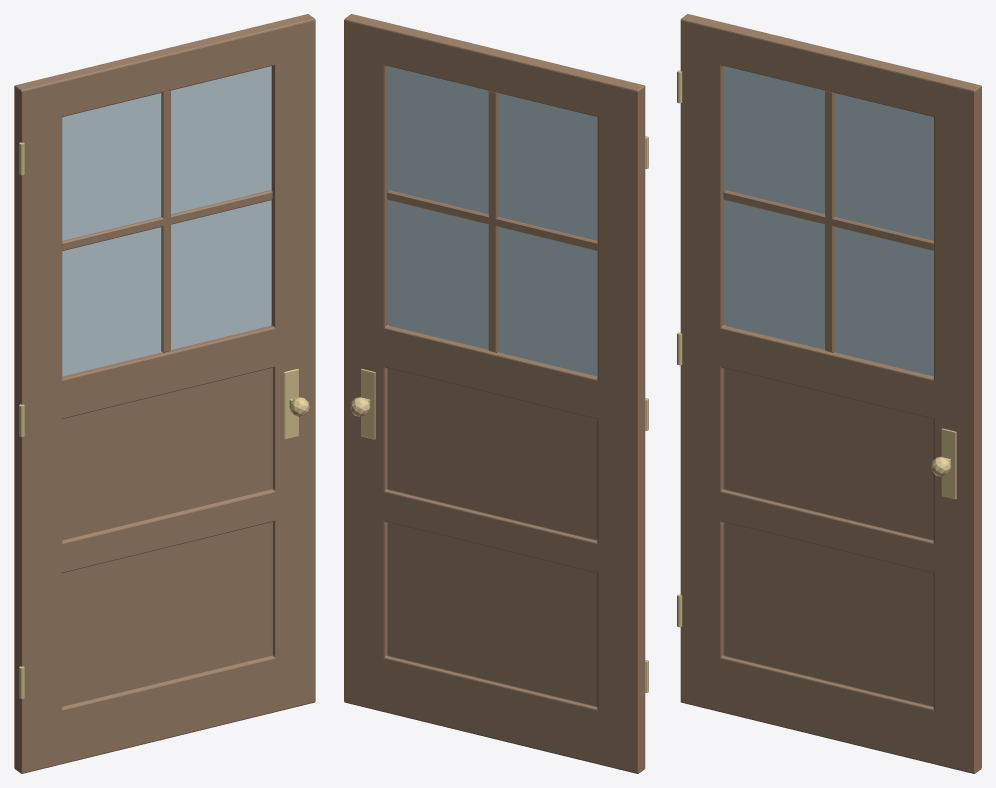
The model's file is door_leaf_back.glb.
3 renders of one model, left to right at view 1: azimuth 30°, elevation 25°; view 2: azimuth 150°, elevation 25°; view 3: azimuth 330°, elevation 25°, orthographic.
Visible parts, largest first — view 1: door_leaf_back_door, door_leaf_back_glass, door_leaf_back_brass; view 2: door_leaf_back_door, door_leaf_back_glass, door_leaf_back_brass; view 3: door_leaf_back_door, door_leaf_back_glass, door_leaf_back_brass.
Boxes of the visible parts, x1,y1,x2,y2 form: door_leaf_back_door: (14, 14, 315, 773); door_leaf_back_glass: (62, 66, 271, 376); door_leaf_back_brass: (19, 142, 309, 698); door_leaf_back_door: (344, 14, 645, 773); door_leaf_back_glass: (388, 66, 597, 376); door_leaf_back_brass: (350, 136, 648, 692); door_leaf_back_door: (680, 14, 981, 773); door_leaf_back_glass: (724, 66, 933, 376); door_leaf_back_brass: (677, 70, 956, 627).
Size of the model in its own units: 1.01 by 2.22 by 0.205.
